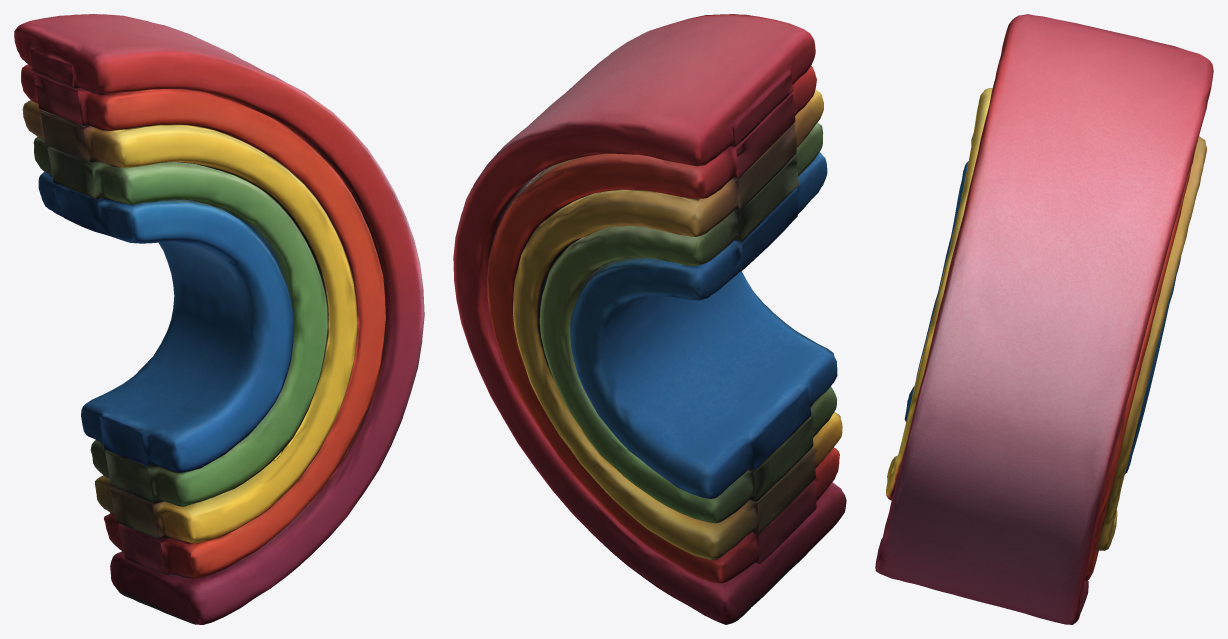
Rendered from Stack 5C - Rainbow.glb.
3 renders of one model, left to right at view 1: azimuth 30°, elevation 25°; view 2: azimuth 150°, elevation 25°; view 3: azimuth 270°, elevation 25°, orthographic. The views are drawn at different scales.
Visible parts, largest first — view 1: Stack 5C - Rainbow · mesh; view 2: Stack 5C - Rainbow · mesh; view 3: Stack 5C - Rainbow · mesh.
Part boxes in pixels (<box>): Stack 5C - Rainbow · mesh: <box>14,14,424,624</box>; Stack 5C - Rainbow · mesh: <box>453,14,846,624</box>; Stack 5C - Rainbow · mesh: <box>875,14,1213,624</box>.
Size of the model in its own units: 0.5605 by 1 by 0.5356.
Materials: 1 (1 with a texture image).
